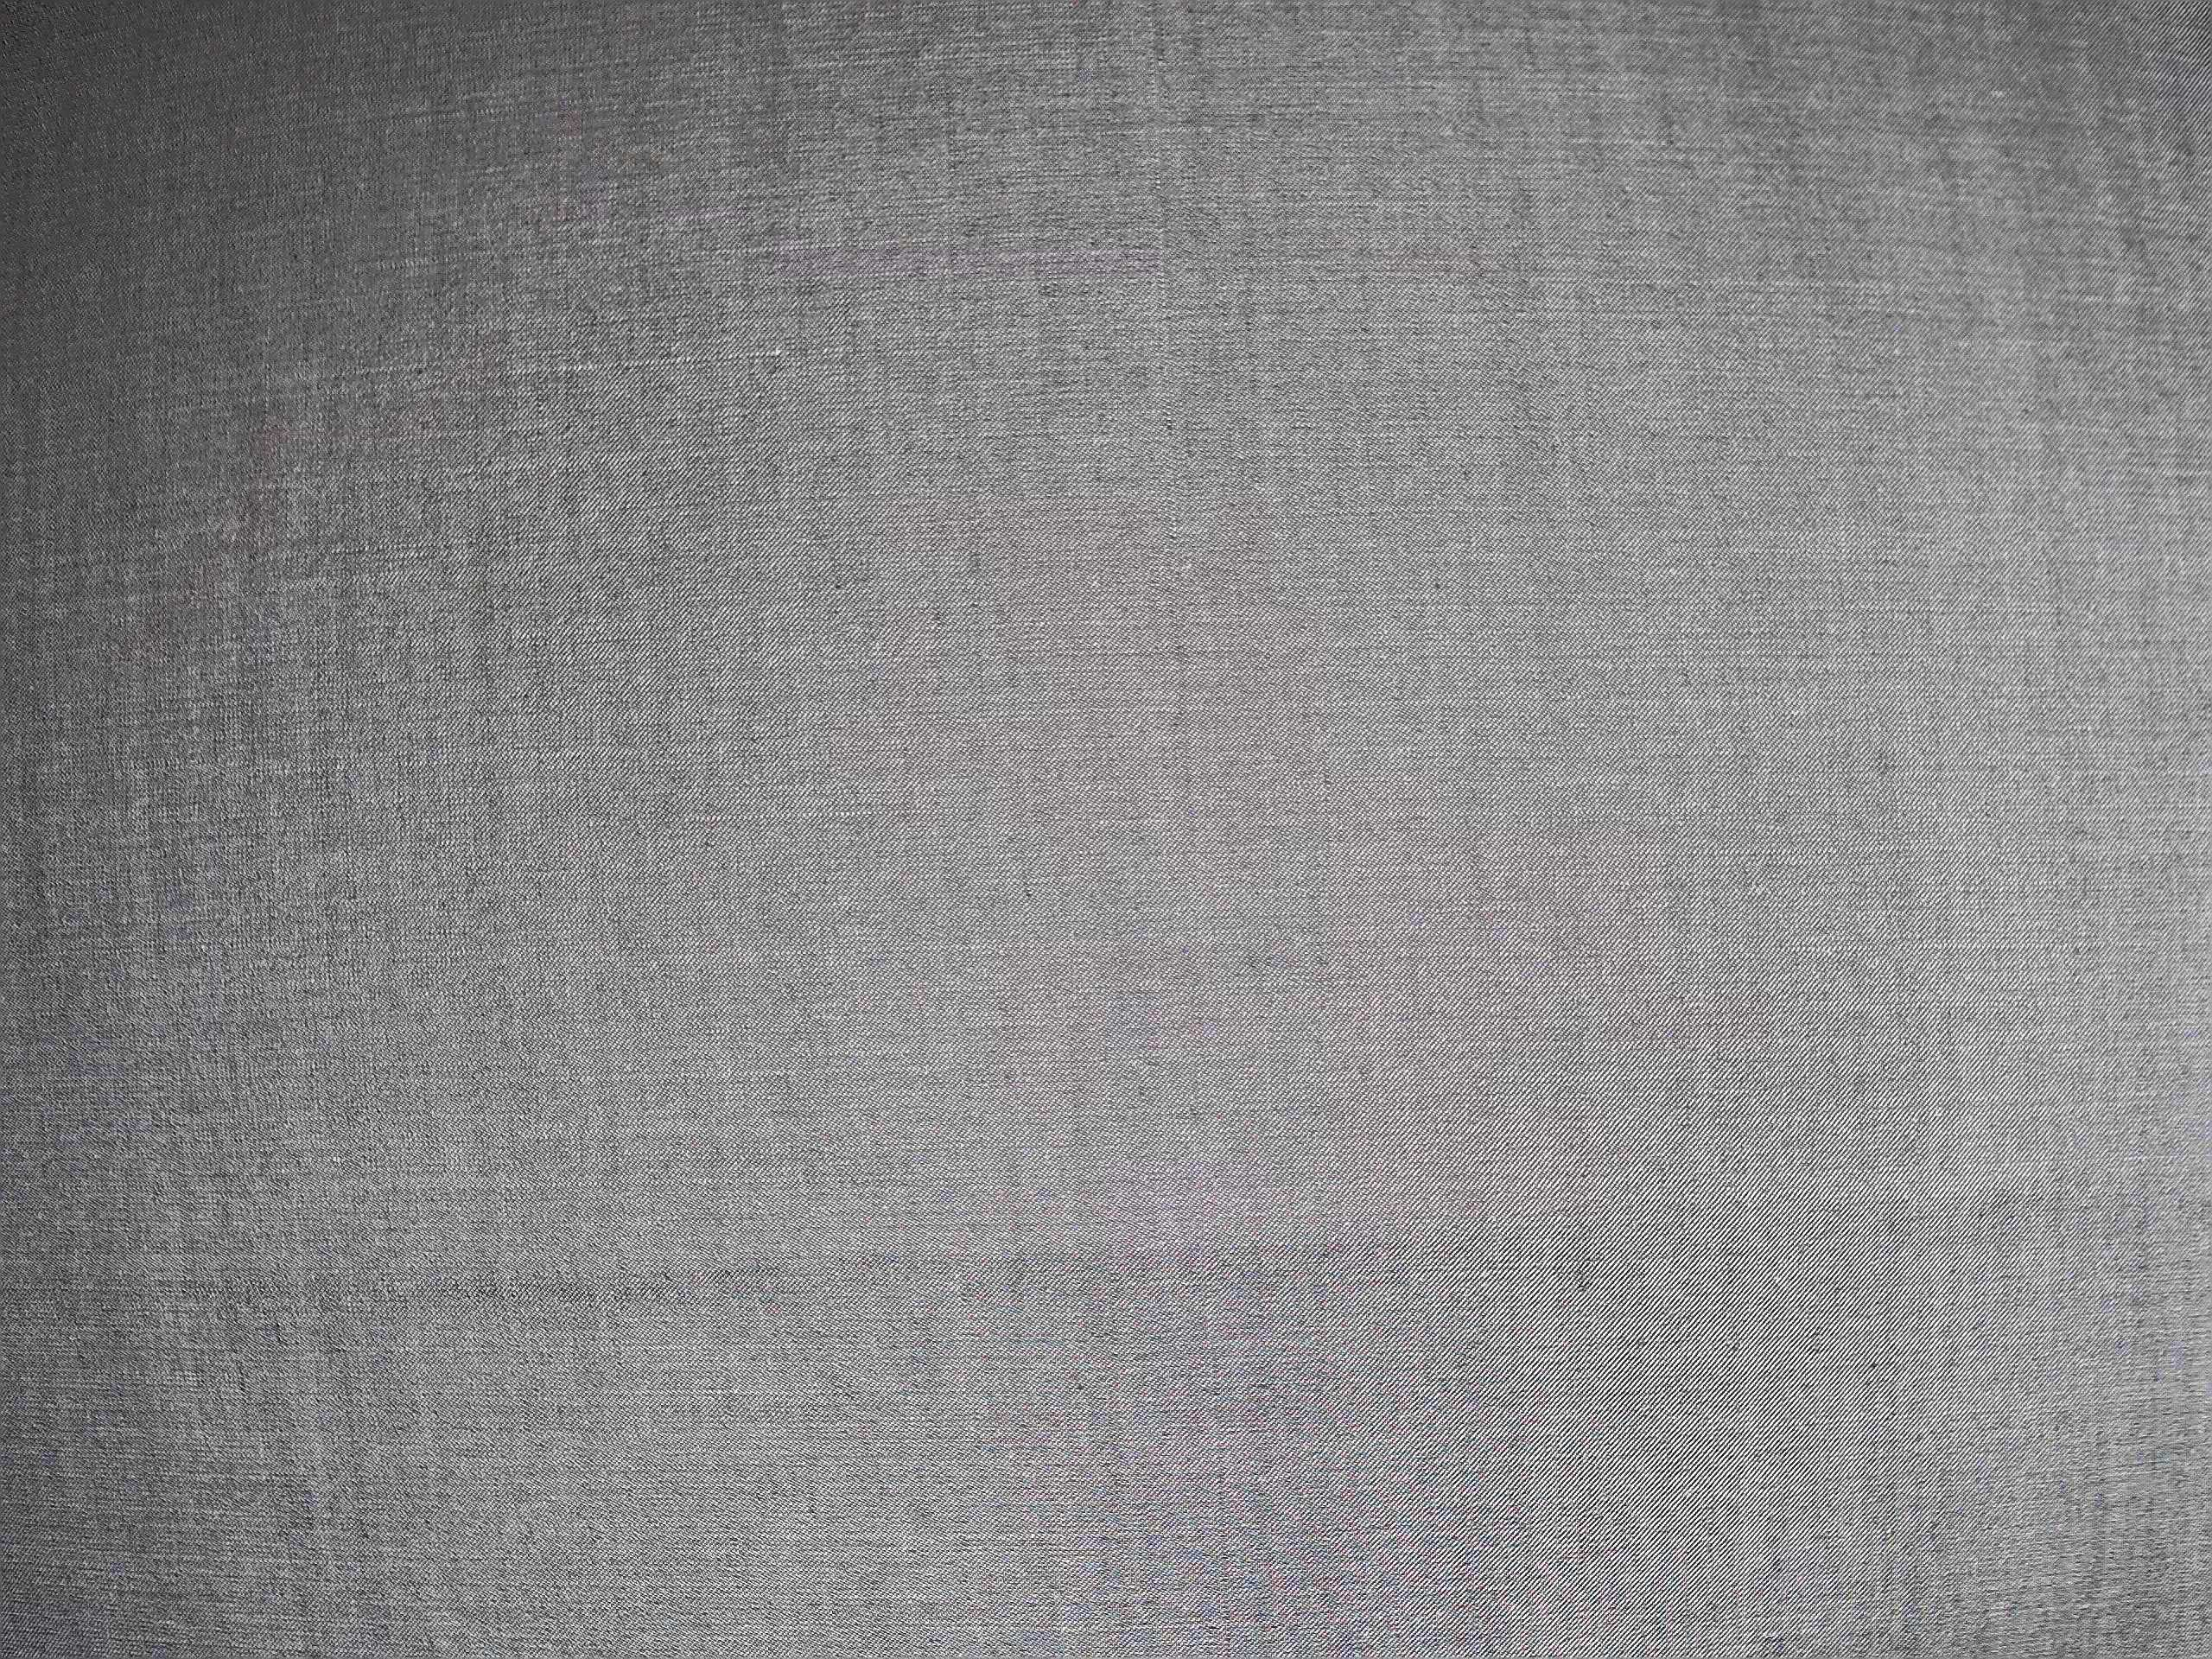others: (1143, 47, 1219, 870), (1193, 1297, 1247, 1647)
